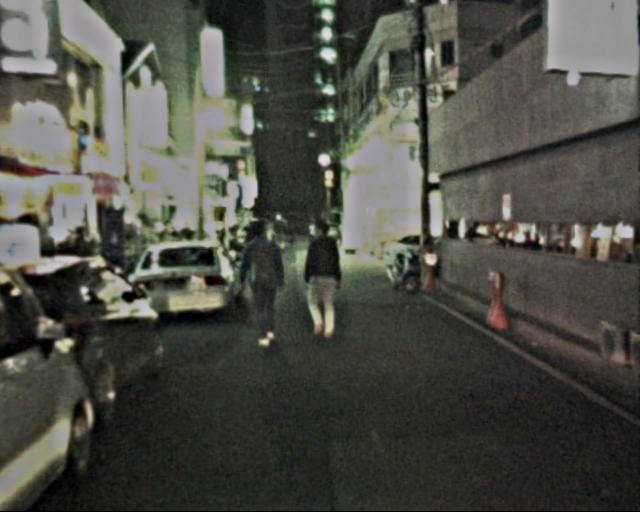person: (237, 221, 289, 346), (299, 217, 348, 338)
